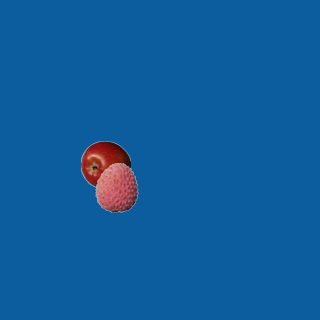Apple Braeburn: (80, 140, 130, 190)
Lychee: (91, 162, 141, 212)
